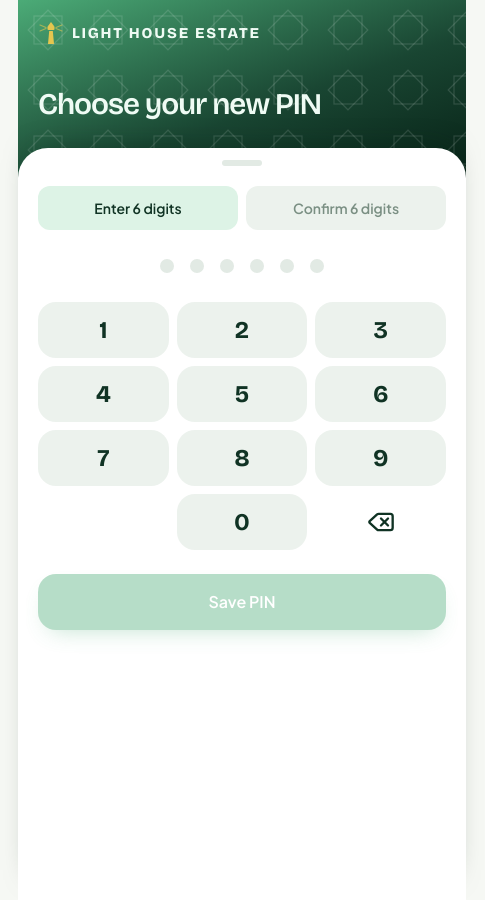
Test: Change PIN › refuses an easy PIN
Check: the button "Save PIN" is shown, box [38,574,446,630]
What coordinates should you click on to do the following:
click the button "1"
I would click on:
 (103, 330)
Its box is [38,302,169,358].
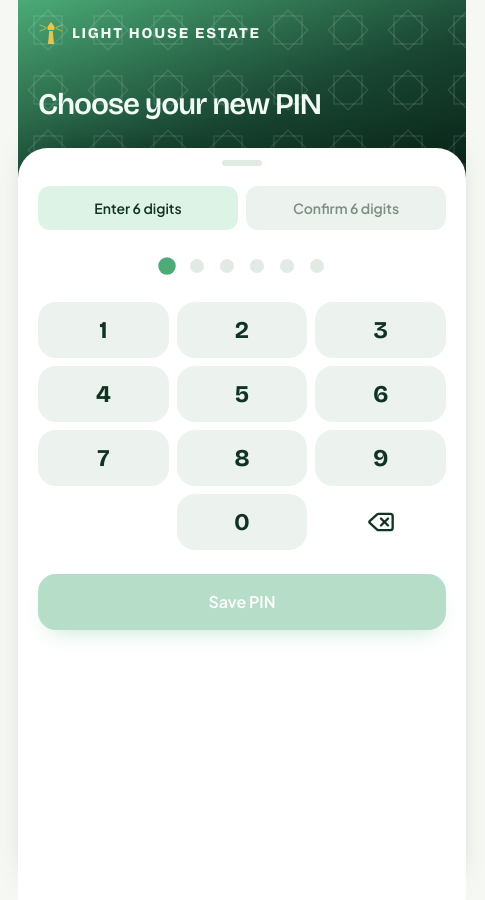
What coordinates should you click on to do the following:
click the button "1"
I would click on:
 (103, 330)
Its box is [38,302,169,358].
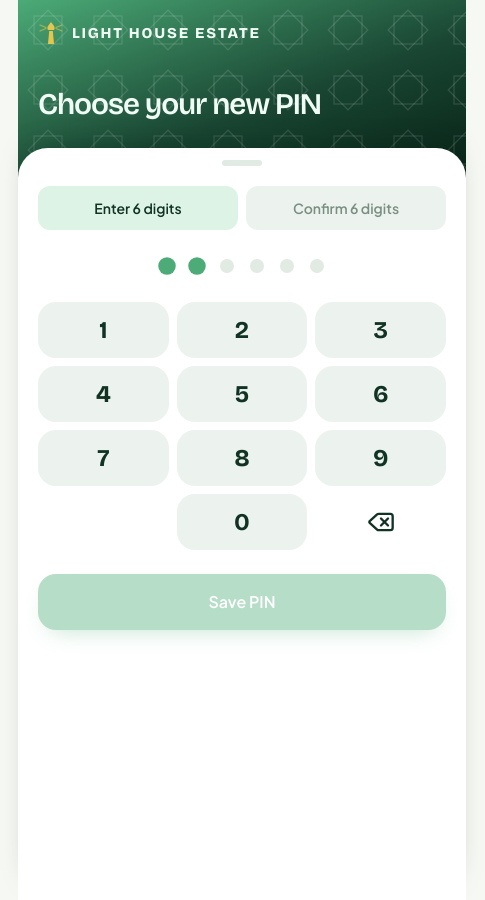
What coordinates should you click on to do the following:
click the button "1"
I would click on:
 (103, 330)
Its box is [38,302,169,358].
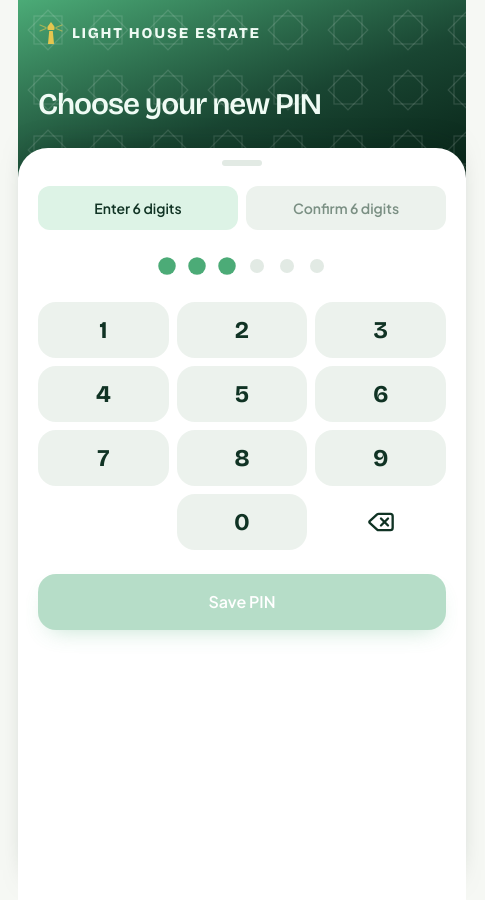
What coordinates should you click on to do the following:
click the button "1"
I would click on:
 (103, 330)
Its box is [38,302,169,358].
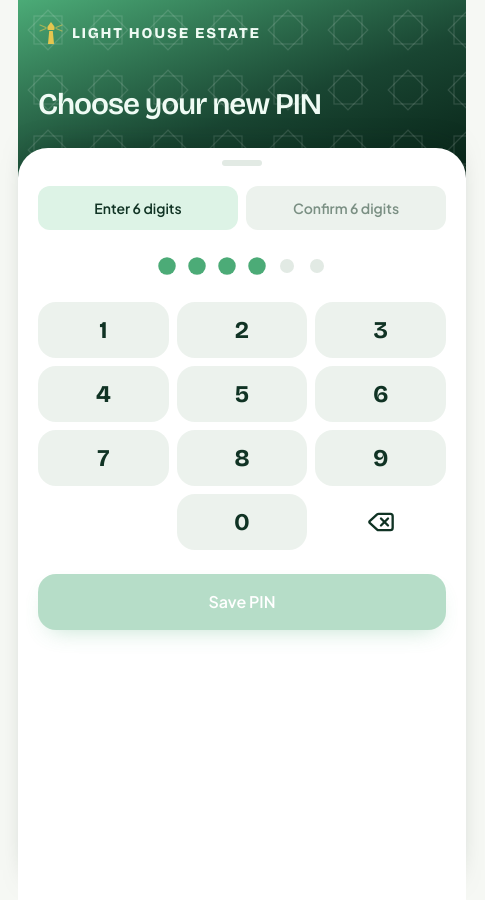
What coordinates should you click on to do the following:
click the button "1"
I would click on:
 (103, 330)
Its box is [38,302,169,358].
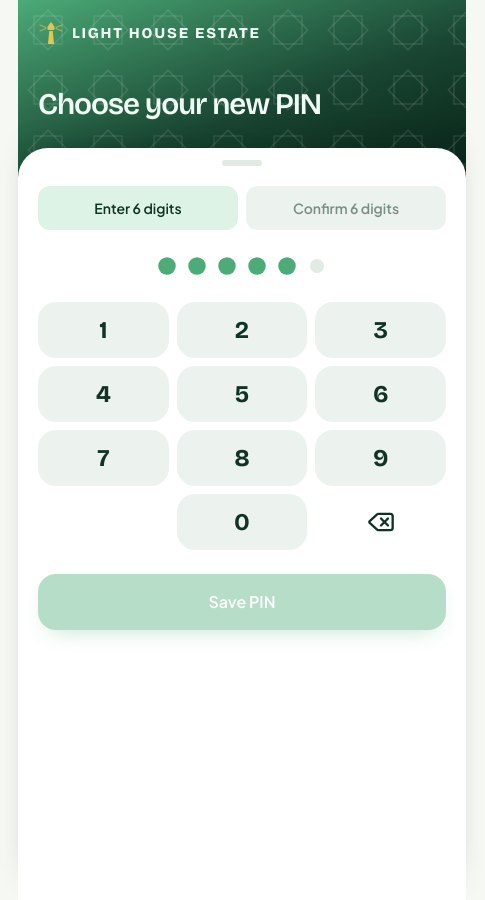
What coordinates should you click on to do the following:
click the button "1"
I would click on:
 (103, 330)
Its box is [38,302,169,358].
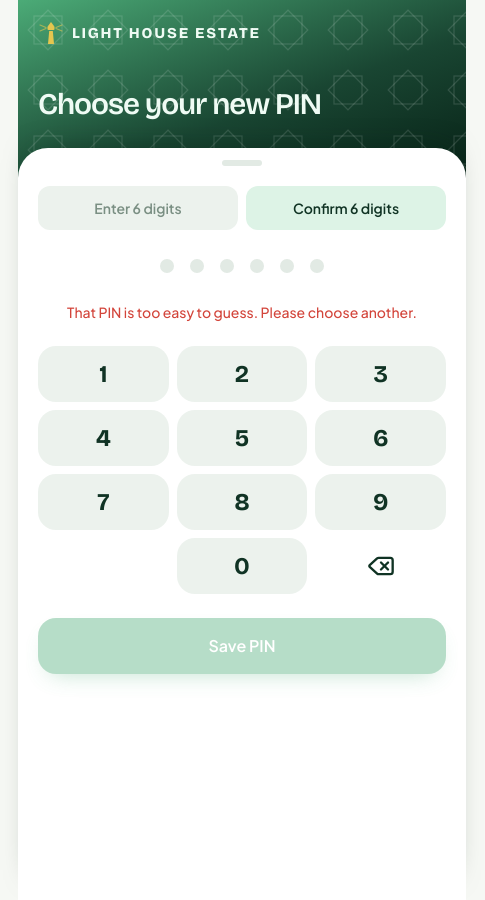
Check: the message shows "too easy", box [67,303,417,321]
